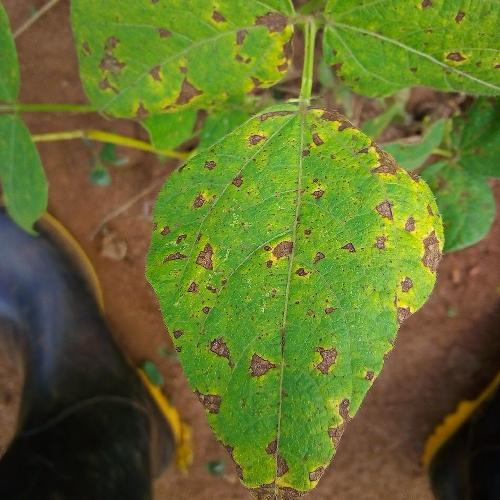hawar: (150, 126, 437, 500)
